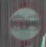No overtake: (6, 2, 45, 44)
